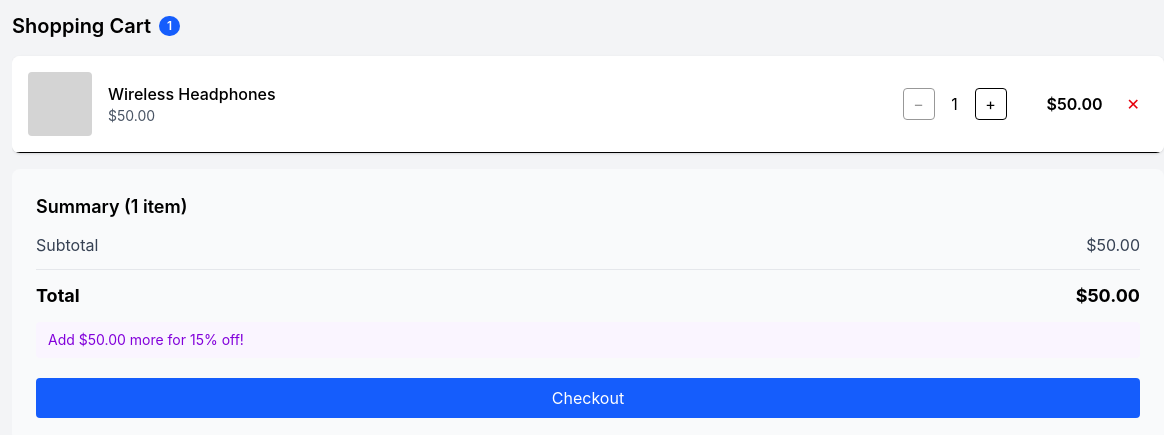
Test case: ShoppingCart › removes the item and falls back to the empty state
This screenshot has width=1164, height=435.
Click the button "✕".
click(1133, 104)  # box [1119, 92, 1148, 116]
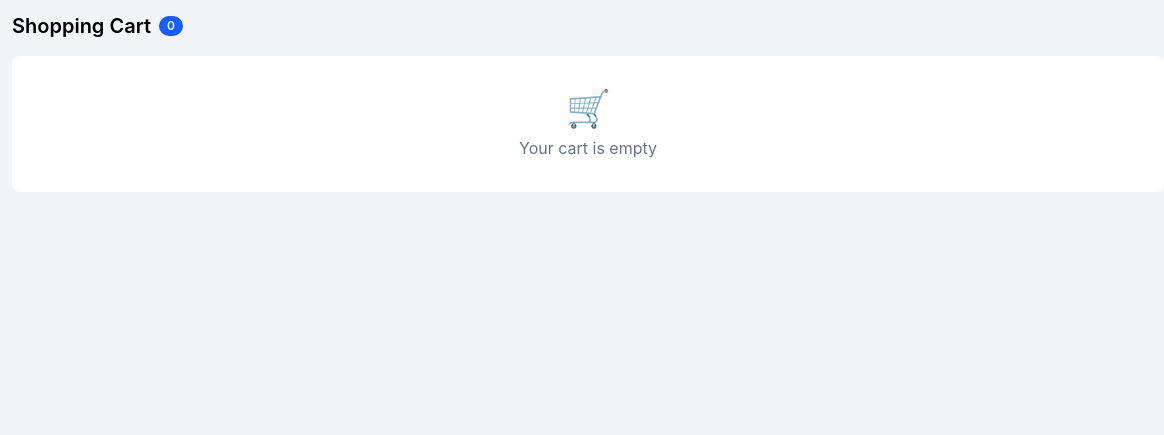
Expected: the text "Your cart is empty" is shown, [519, 138, 657, 158]
